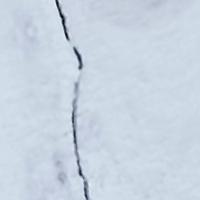crack: (44, 0, 106, 199)
